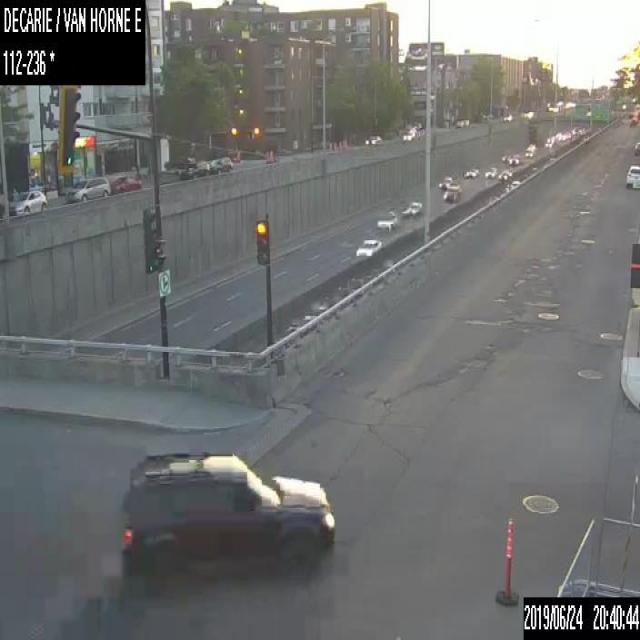construction: (495, 515, 520, 605), (265, 150, 269, 162), (269, 149, 272, 161), (344, 136, 347, 148), (333, 140, 336, 149), (338, 139, 340, 149)
vehicle: (119, 451, 337, 573), (64, 176, 110, 200), (8, 189, 46, 215), (354, 236, 382, 259), (110, 175, 141, 193), (180, 161, 205, 179), (376, 210, 396, 230), (442, 182, 462, 202), (209, 156, 233, 172), (625, 161, 639, 188), (404, 200, 421, 215), (437, 176, 454, 188), (364, 133, 382, 144), (402, 126, 415, 140), (497, 168, 511, 180), (463, 168, 479, 177), (508, 153, 520, 165), (484, 167, 496, 177), (500, 152, 512, 161), (629, 116, 637, 126), (524, 148, 532, 156), (503, 113, 512, 120), (544, 141, 552, 148), (635, 140, 639, 153)
